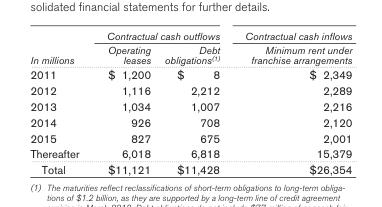table: (29, 29, 351, 175)
table column: (231, 29, 351, 175), (156, 29, 231, 175), (92, 29, 156, 175), (29, 29, 92, 175)
table column header: (29, 29, 351, 66)
table row: (29, 42, 351, 66), (29, 66, 351, 82), (29, 82, 351, 98), (29, 113, 351, 129), (29, 129, 351, 145), (29, 145, 351, 161), (29, 98, 351, 113), (29, 161, 351, 175), (29, 29, 351, 42)
table spanning cell: (231, 29, 351, 66), (29, 29, 92, 66), (92, 29, 231, 42)
